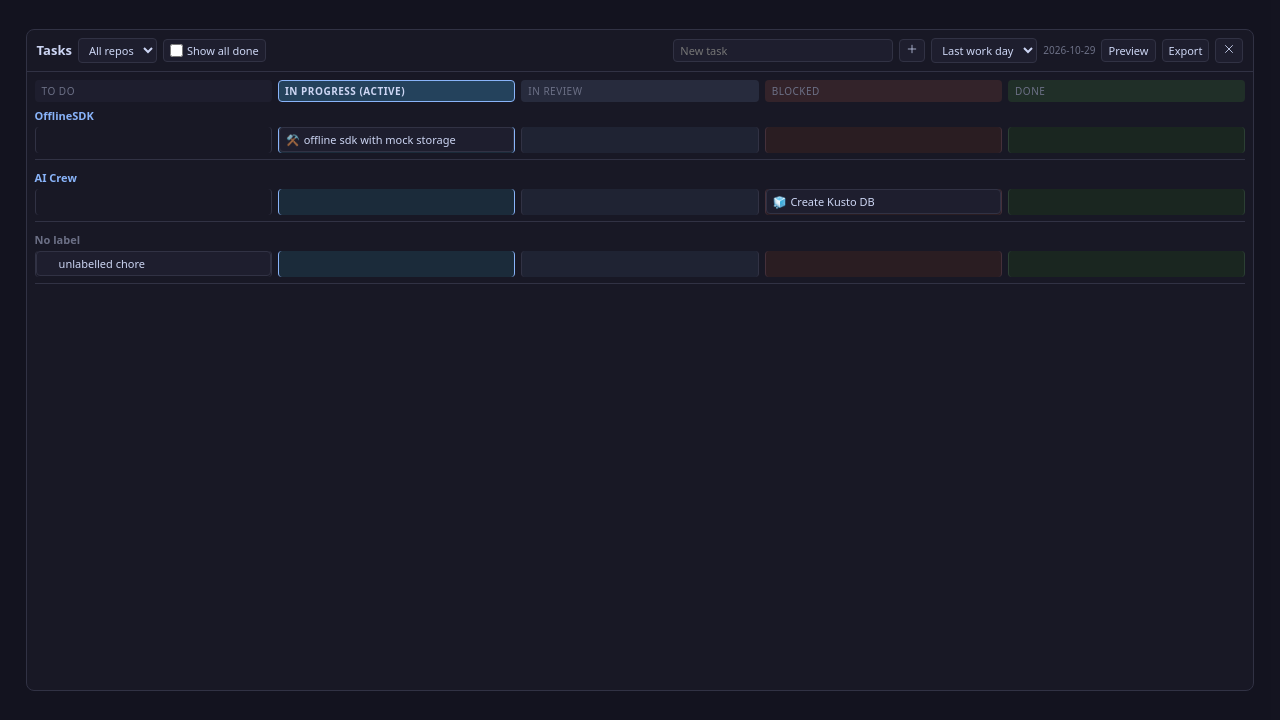
Test: TaskBoard › creates a task from the composer
Check: the text "offline sdk with mock storage" is shown, box [304, 132, 456, 147]
Type "media_store read API" into the field with test id "new-task-input" at (783, 50), box [673, 39, 893, 62]
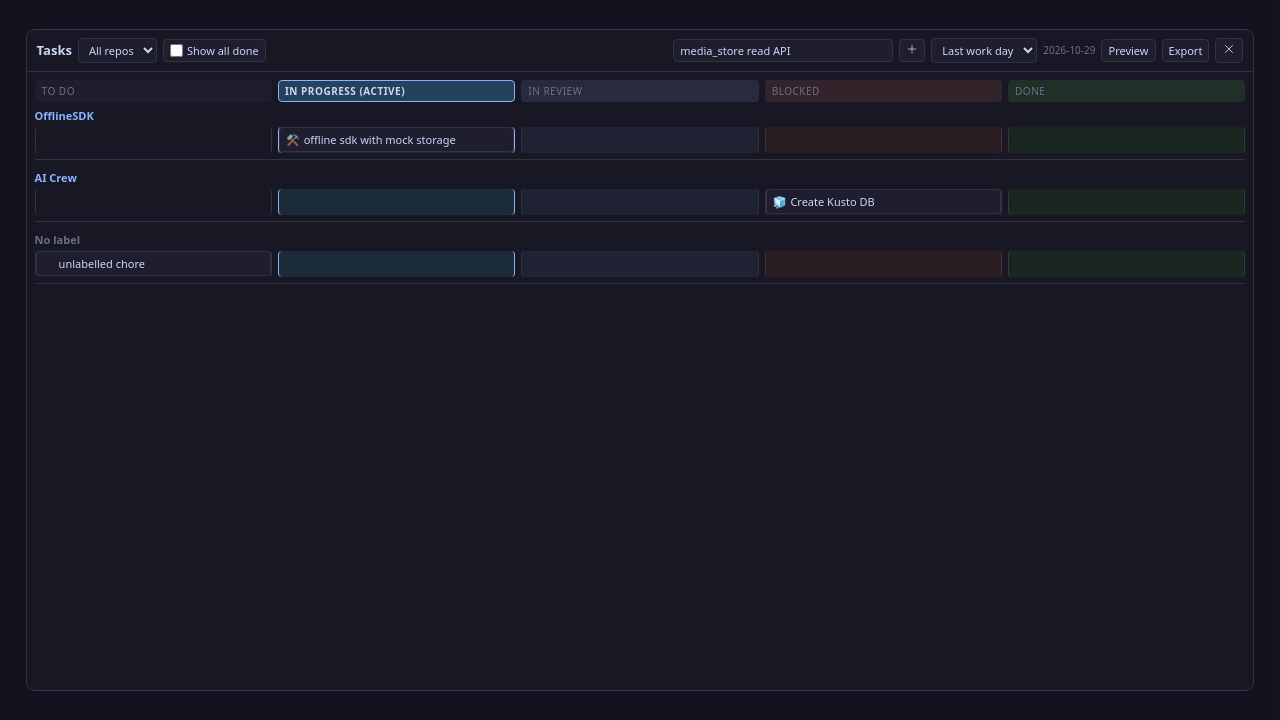
Click the button with test id "new-task-submit" at (912, 50), box [899, 39, 925, 62]
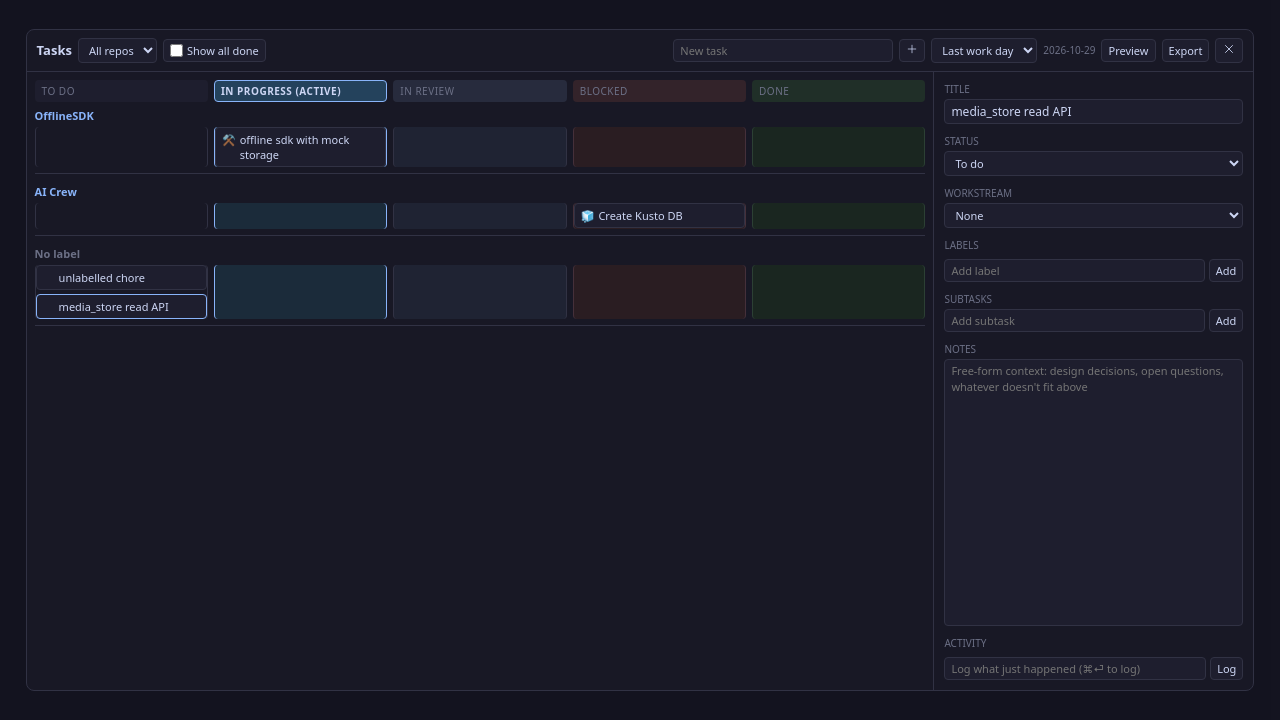
Check: the text "media_store read API" is shown, box [59, 299, 169, 314]
